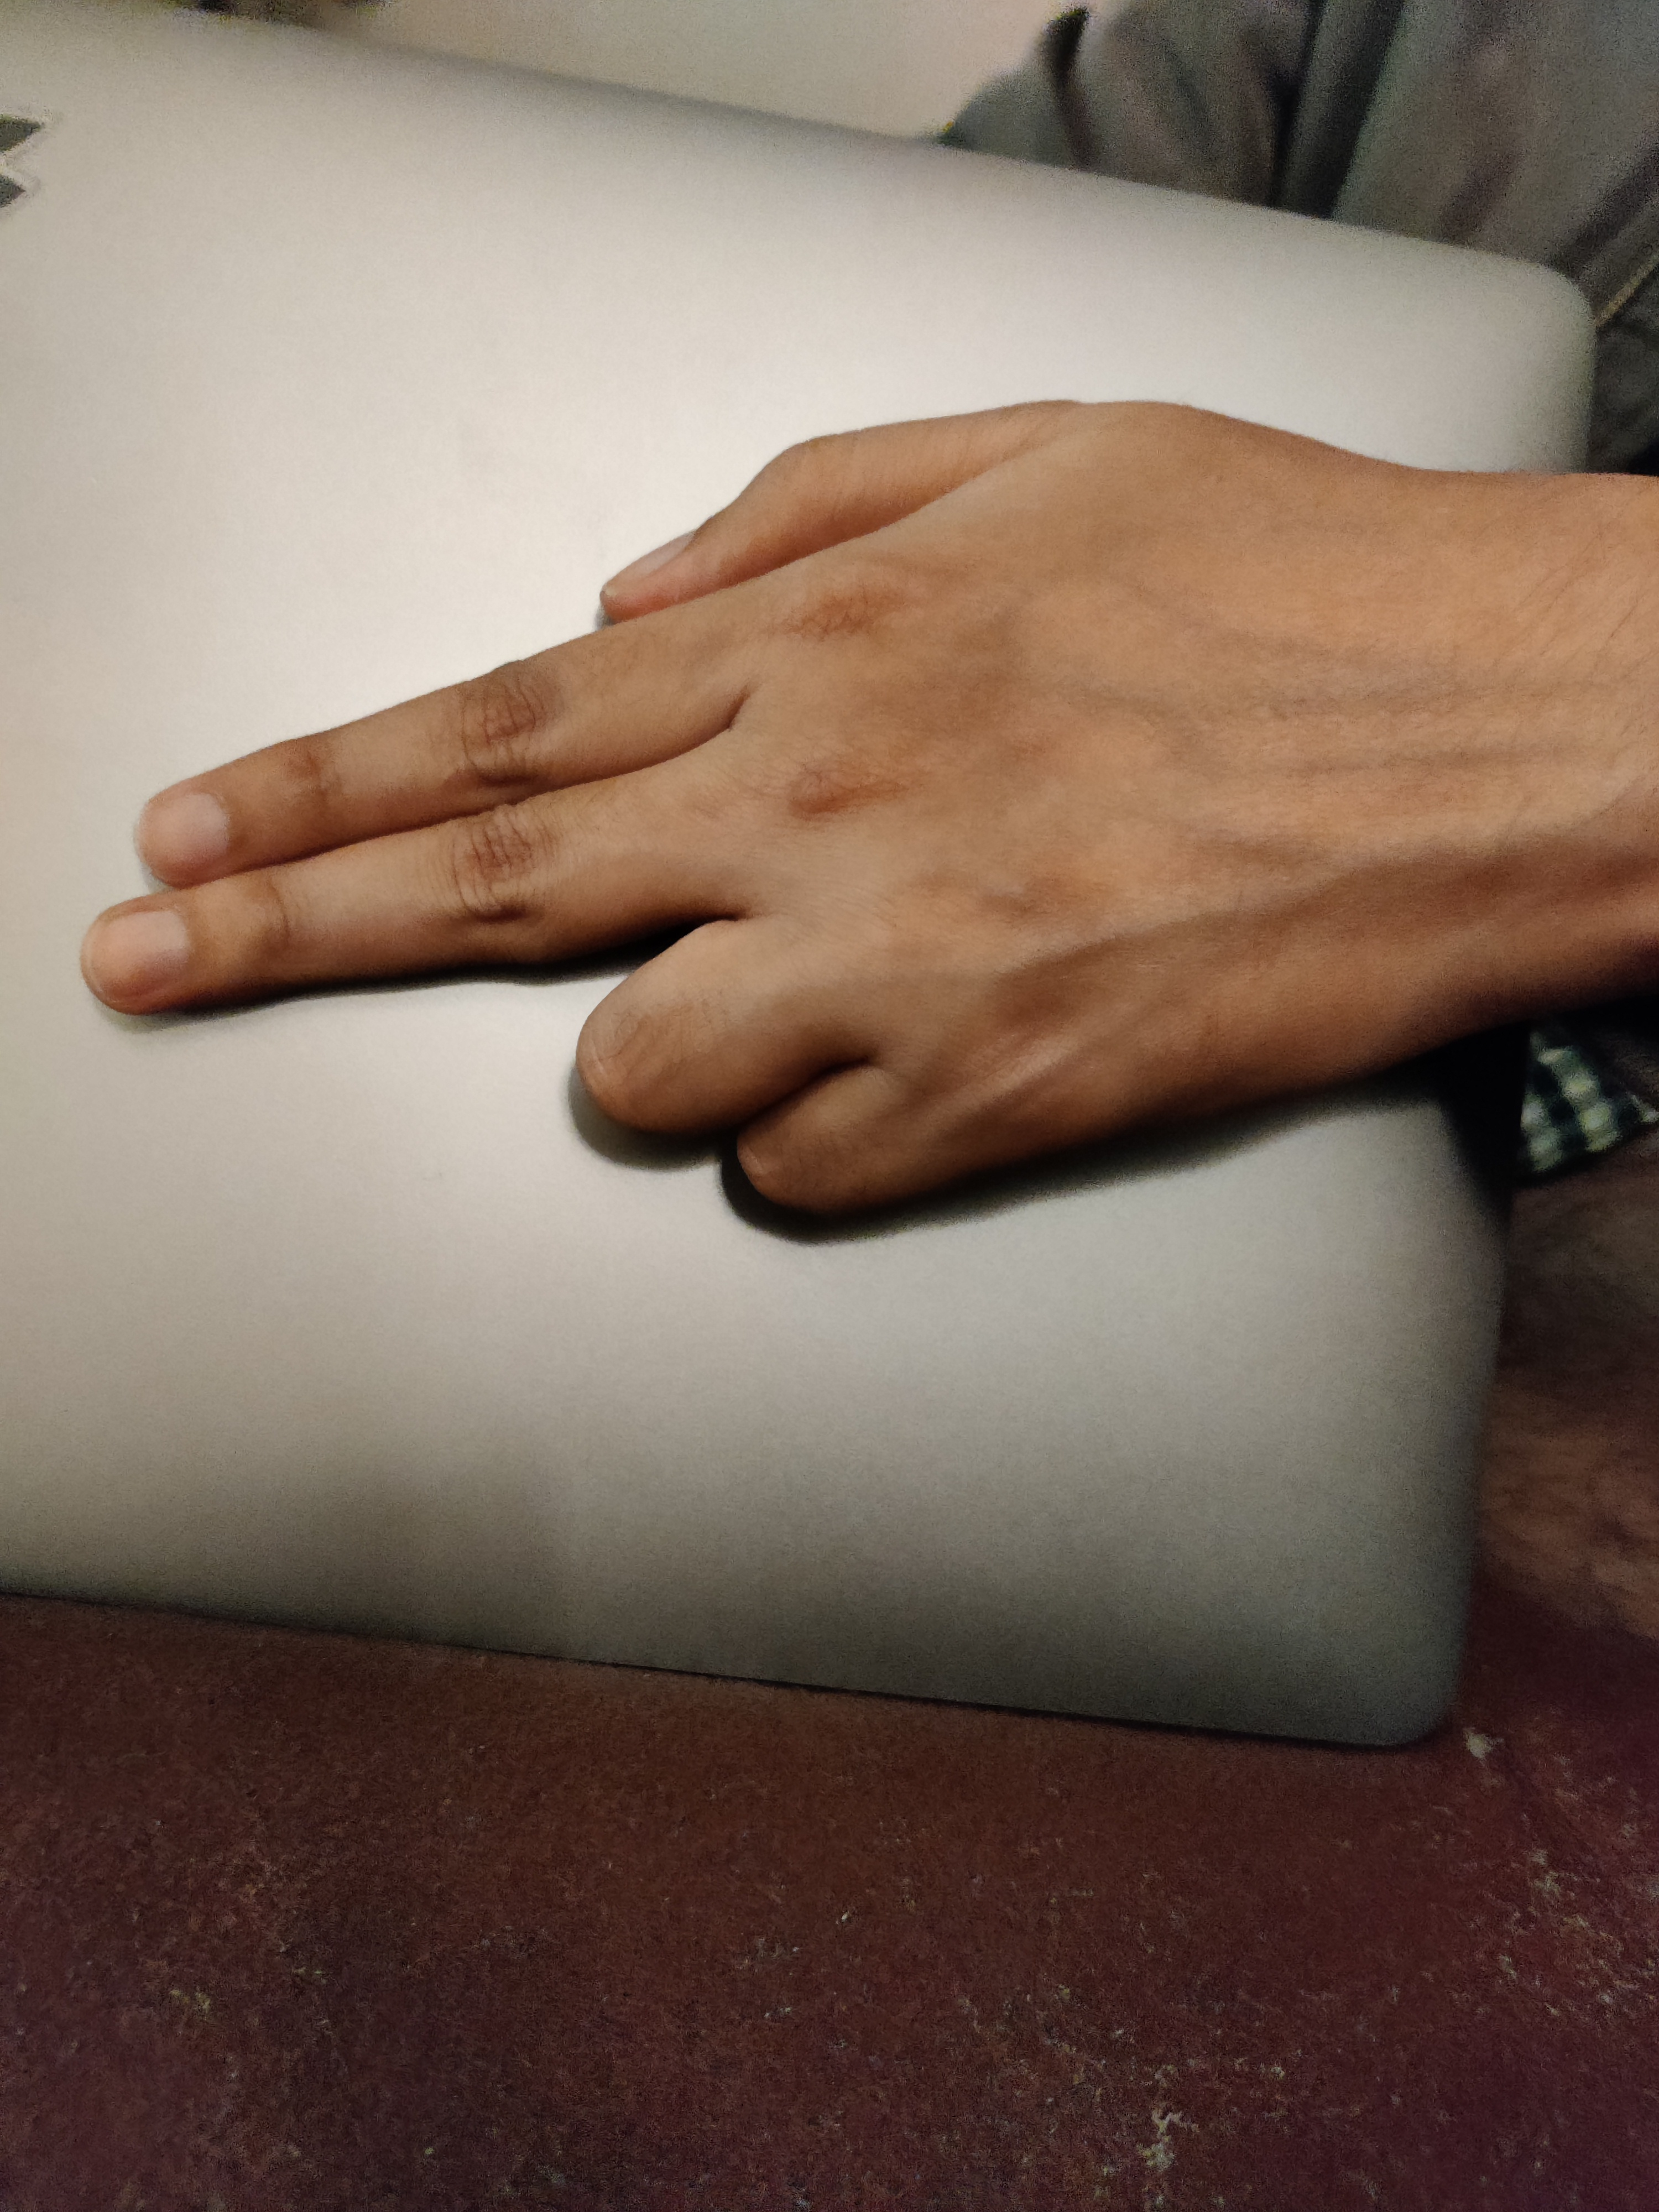right: (58, 256, 1563, 1418)
